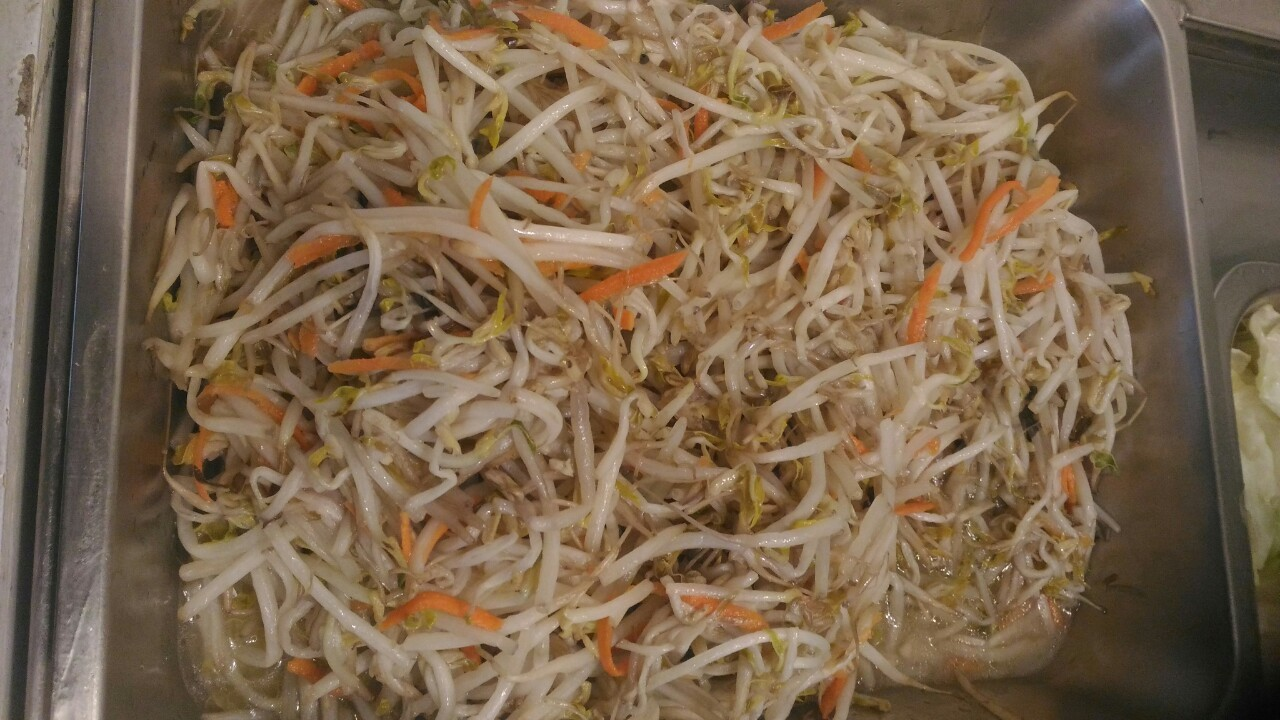mung_bean_sprouts: (178, 7, 1121, 697)
